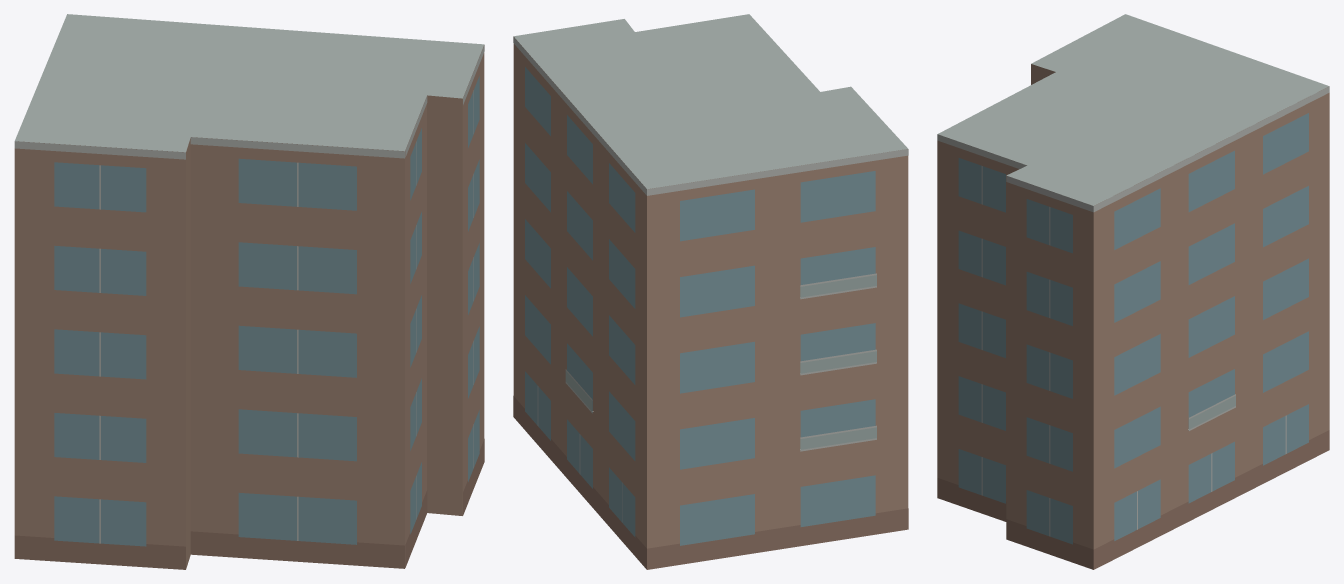
Rendered from survey-upis-32888540.glb.
The picture shows the model from 3 angles, left to right: view 1: azimuth 30°, elevation 25°; view 2: azimuth 150°, elevation 25°; view 3: azimuth 270°, elevation 25°; orthographic projection. The views are drawn at different scales.
Parts seen in each view (by area): view 1: survey-upis-32888540.tmp; view 2: survey-upis-32888540.tmp; view 3: survey-upis-32888540.tmp.
Part boxes in pixels (x1,y1,x2,y2): survey-upis-32888540.tmp: (14,14,484,569); survey-upis-32888540.tmp: (513,14,908,569); survey-upis-32888540.tmp: (937,14,1329,569).
Size of the model in its own units: 15.74 by 13.9 by 13.58.
